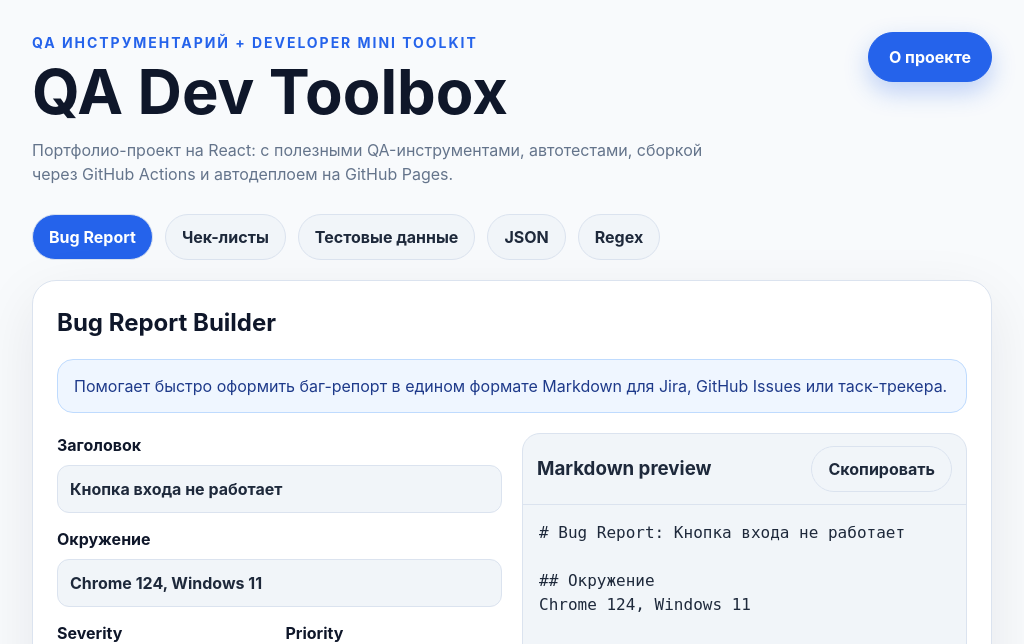
Test: App › switches to the regex tester and shows matches
What coordinates should you click on to do the following:
click the button "Regex"
I would click on:
 (619, 237)
Its box is x1=578 y1=214 x2=660 y2=260.
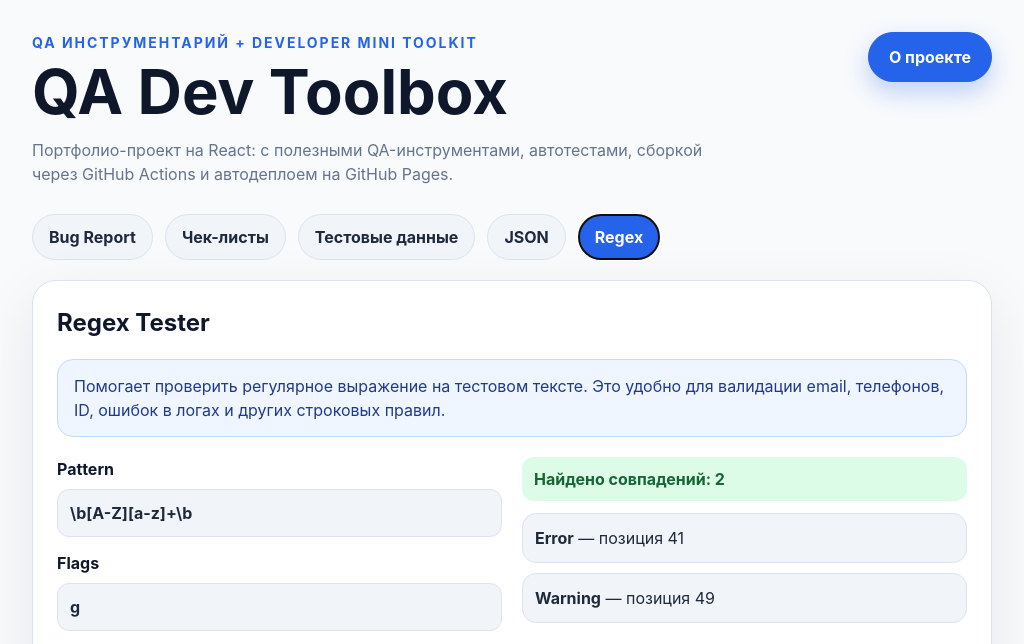
Now the text "Error" is shown, box x1=535 y1=528 x2=574 y2=548
Now the text "Warning" is shown, box x1=535 y1=588 x2=601 y2=608
